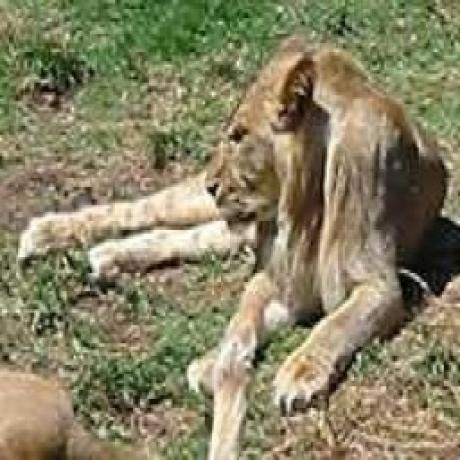Lion: (22, 43, 448, 460)
